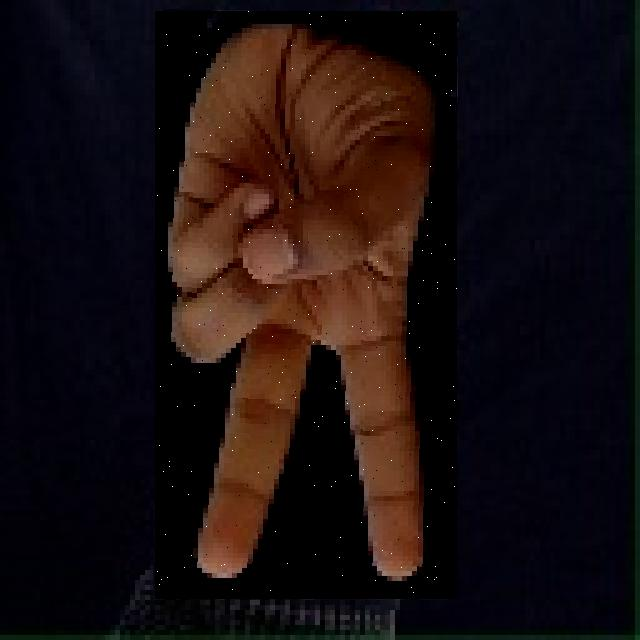No: (155, 11, 457, 599)
